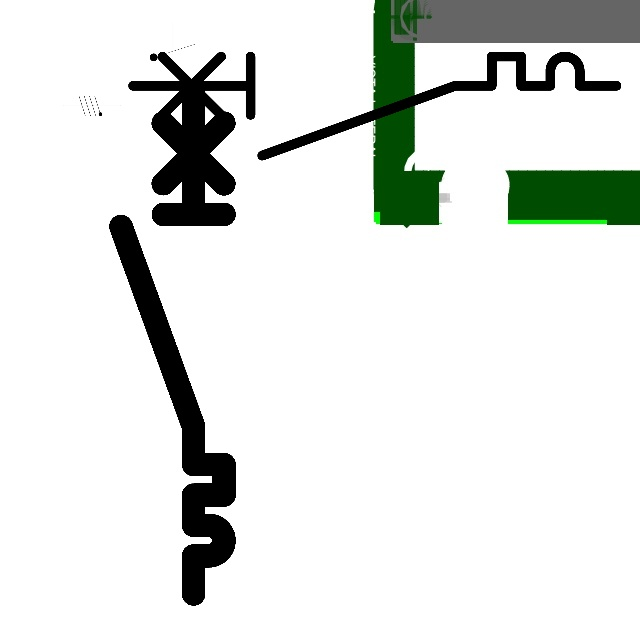interruptor_termomagnetico: (108, 79, 237, 607), (120, 44, 628, 168)
